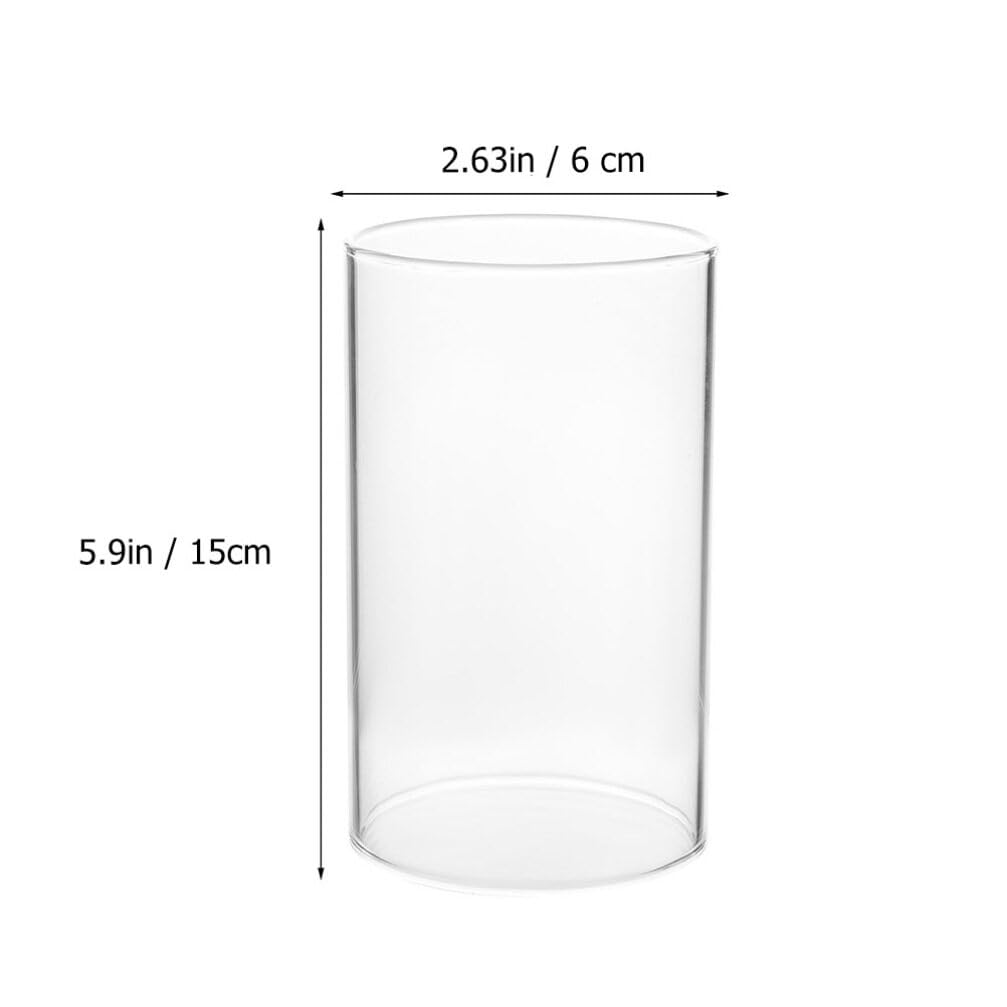/: (164, 537, 177, 570)
/6cm: (572, 146, 644, 173)
15cm: (192, 539, 270, 565)
2.63in: (442, 146, 534, 173)
5.9in: (80, 538, 152, 565)
\.: (654, 834, 705, 871)
